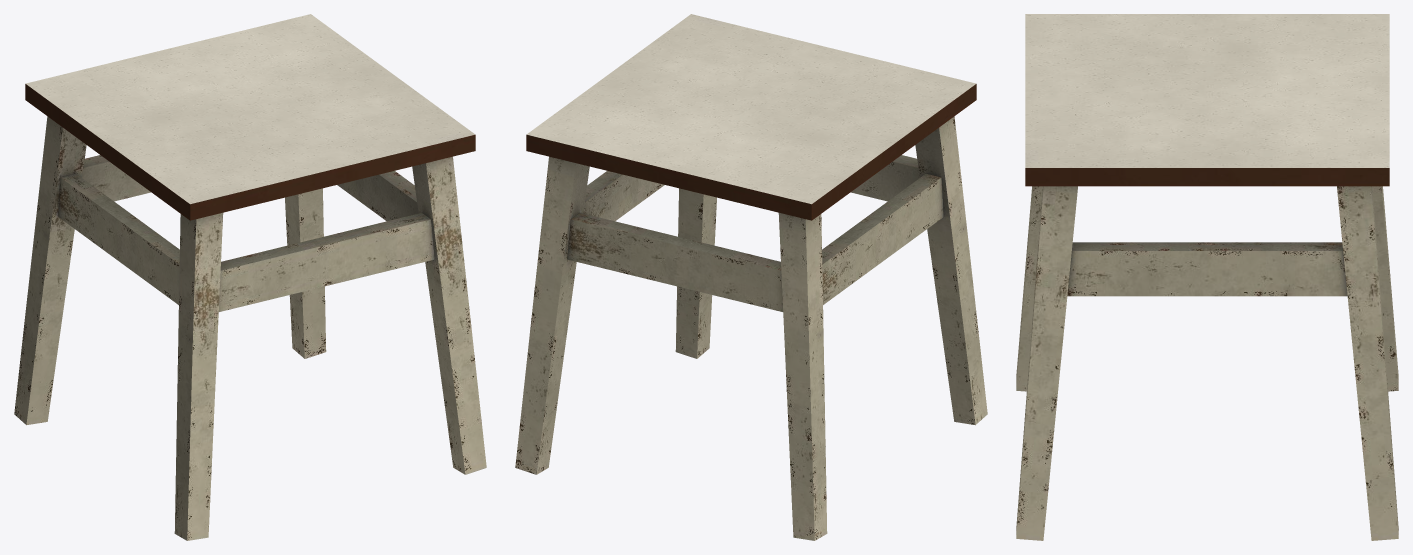
Rendered from stool_cream_web.glb.
3 renders of one model, left to right at view 1: azimuth 30°, elevation 25°; view 2: azimuth 150°, elevation 25°; view 3: azimuth 270°, elevation 25°, orthographic. The views are drawn at different scales.
Parts seen in each view (by area): view 1: StoolCream_Mesh; view 2: StoolCream_Mesh; view 3: StoolCream_Mesh.
Part boxes in pixels (<box>): StoolCream_Mesh: <box>14,14,486,540</box>; StoolCream_Mesh: <box>515,14,987,540</box>; StoolCream_Mesh: <box>1016,14,1398,540</box>.
Bounding box in the file's own units: 0.4201 × 0.4495 × 0.4199.
Materials: 1 (1 with a texture image).
